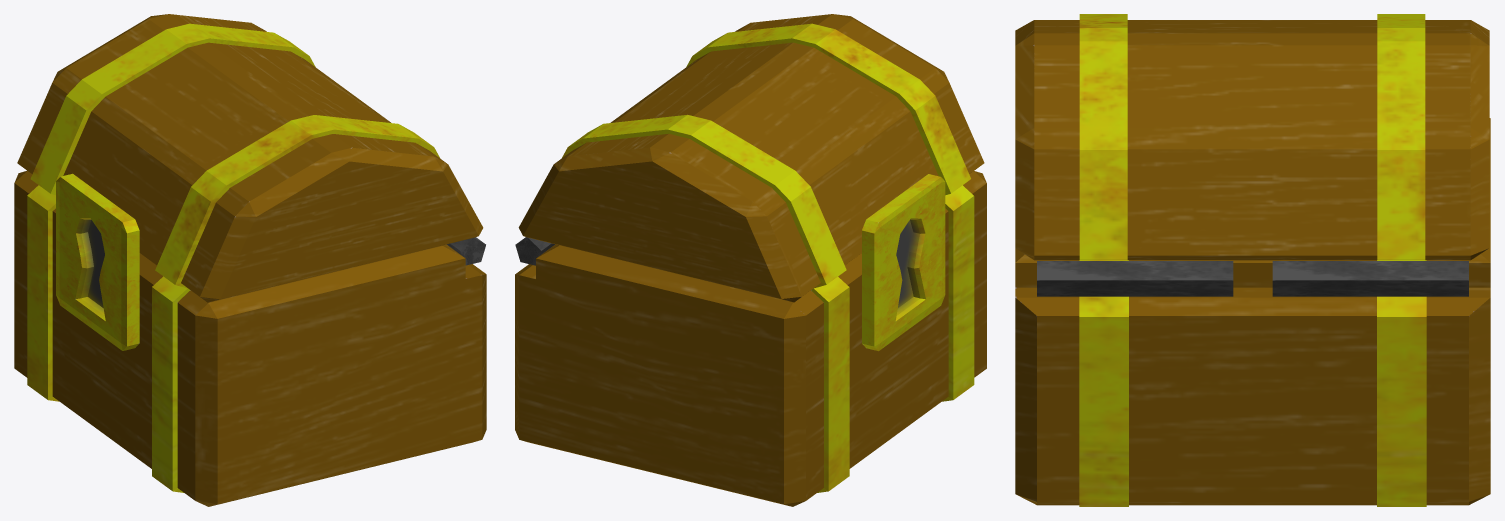
Rendered from Cofre.obj.
3 renders of one model, left to right at view 1: azimuth 30°, elevation 25°; view 2: azimuth 150°, elevation 25°; view 3: azimuth 270°, elevation 25°, orthographic. The views are drawn at different scales.
Parts seen in each view (by area): view 1: Cofre.004; view 2: Cofre.004; view 3: Cofre.004.
Boxes of the visible parts, <box> form: Cofre.004: <box>14,14,486,506</box>; Cofre.004: <box>515,14,986,506</box>; Cofre.004: <box>1015,14,1490,506</box>.
Bounding box in the file's own units: 4.69 × 4.77 × 5.22.
Materials: 2 (2 with a texture image).
